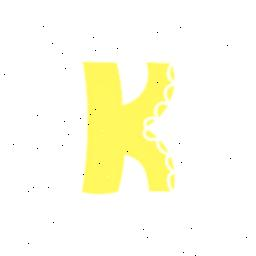k: (55, 32, 201, 214)
